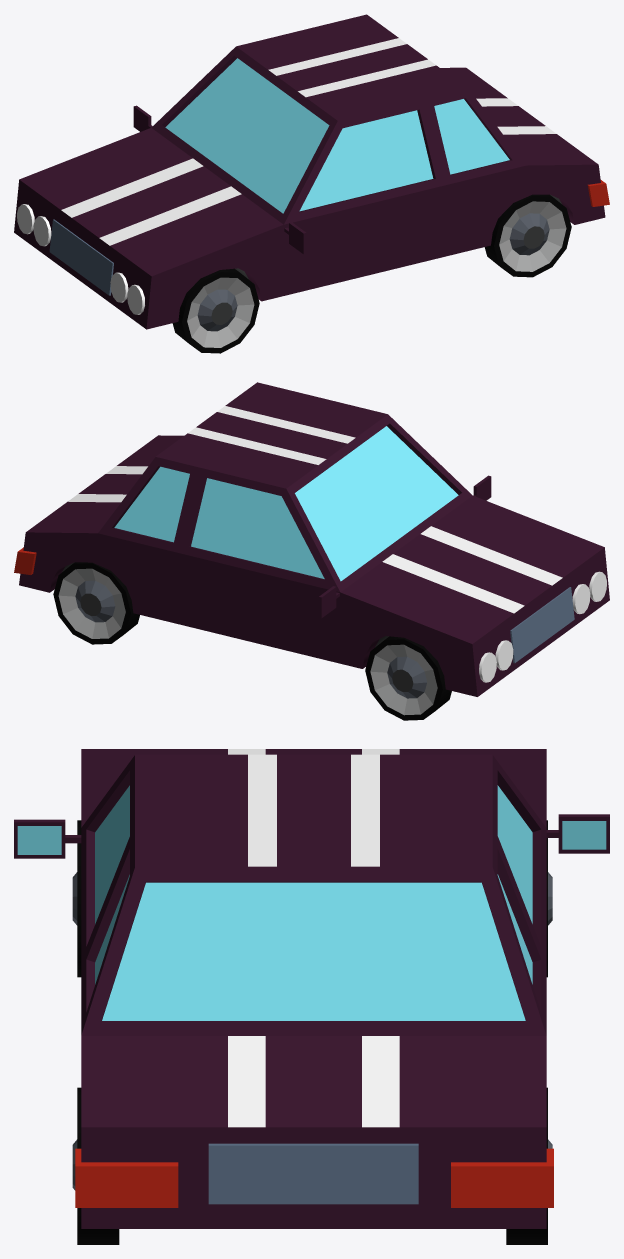
The model's file is car1B.FBX.
The picture shows the model from 3 angles, top to bottom: view 1: azimuth 30°, elevation 25°; view 2: azimuth 150°, elevation 25°; view 3: azimuth 270°, elevation 25°; orthographic projection. The views are drawn at different scales.
Parts seen in each view (by area): view 1: car1B; view 2: car1B; view 3: car1B.
Boxes of the visible parts, x1,y1,x2,y2 form: car1B: [14, 14, 609, 353]; car1B: [14, 382, 609, 720]; car1B: [14, 749, 609, 1244].
Bounding box in the file's own units: 10.1 × 3.92 × 6.4.
